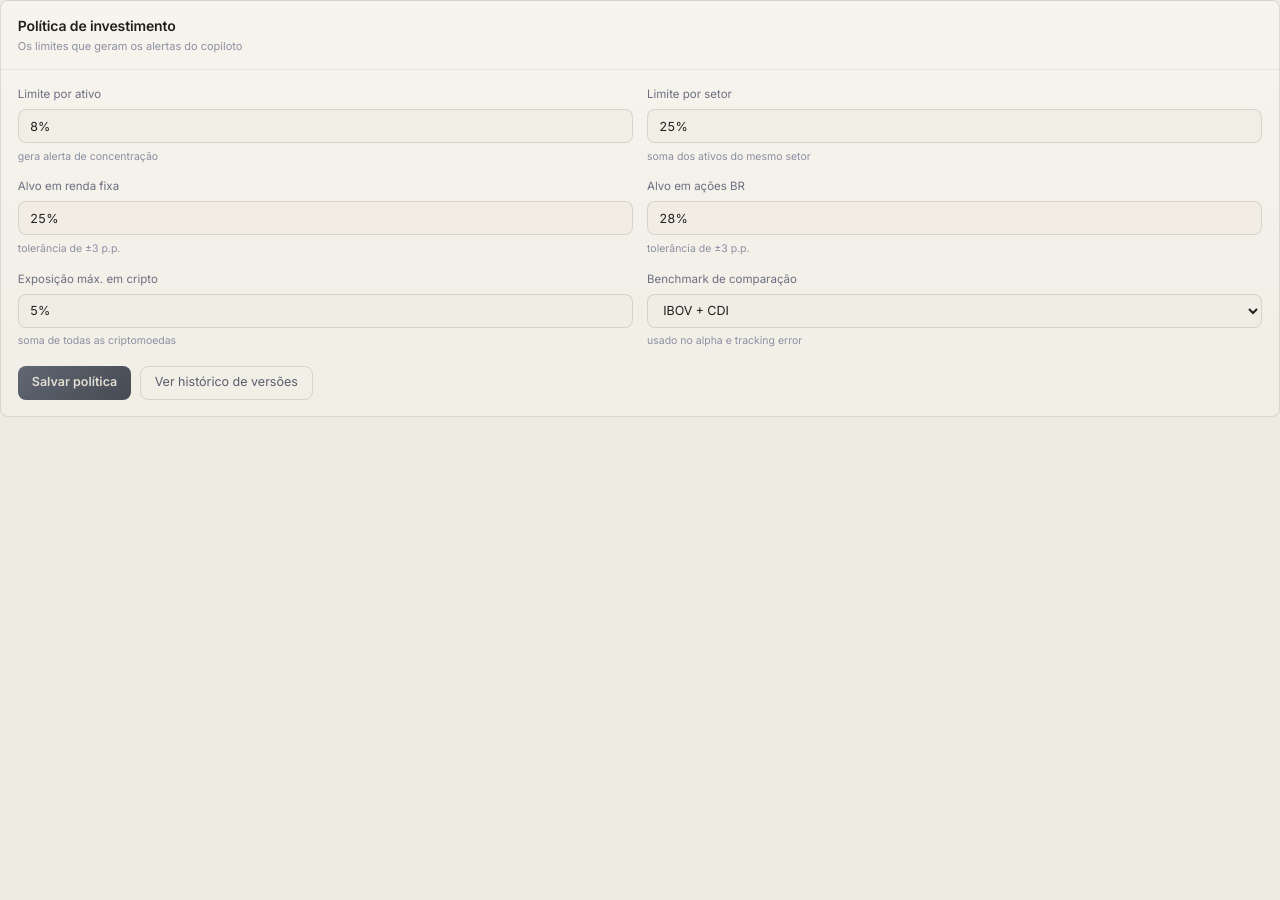
Test case: InvestmentPolicyCard › restores an older version into the form without saving
Click the button "Ver histórico de versões" at (226, 383), box top-left (140, 366), bottom-right (313, 400)
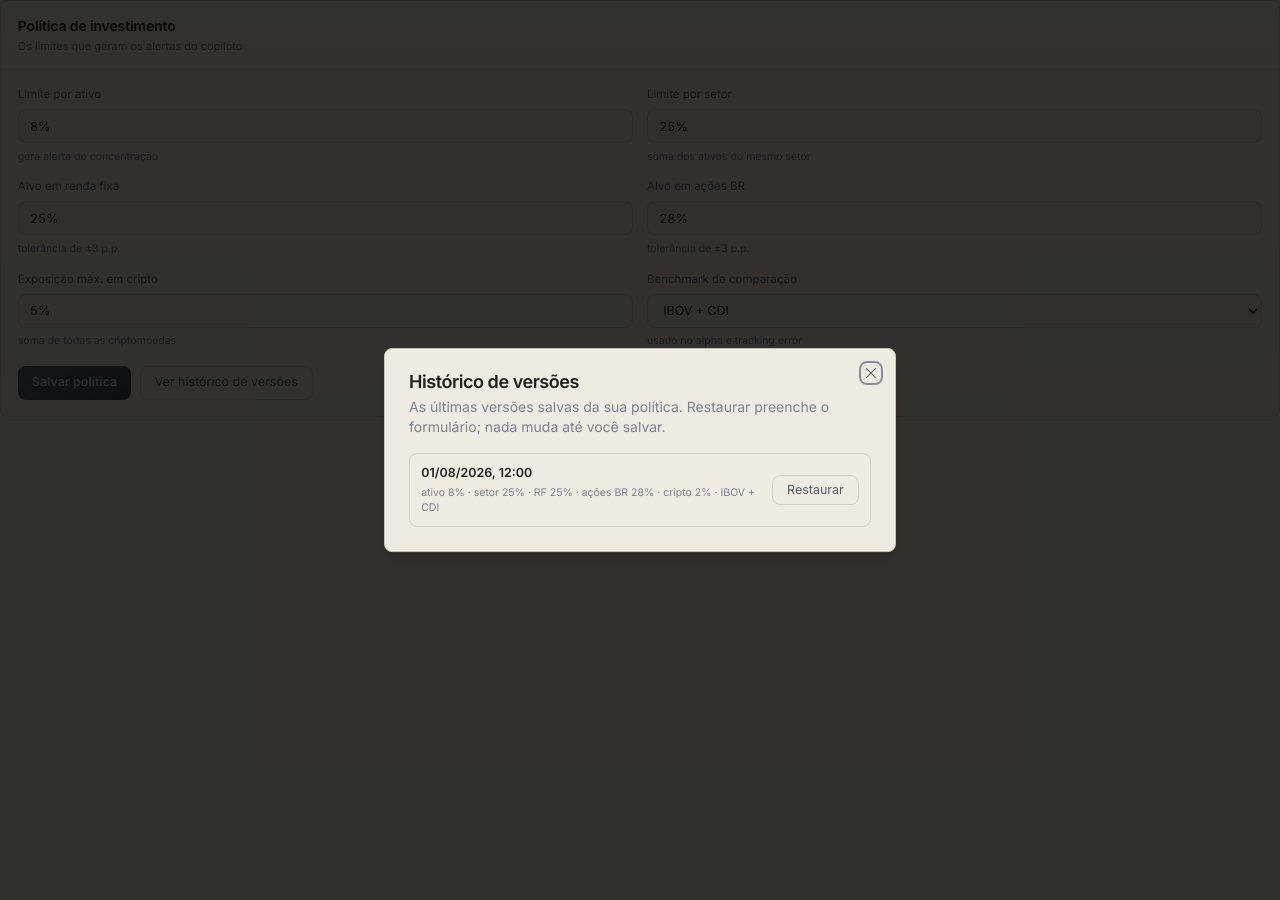
Click the button "Restaurar" at (816, 490), box top-left (772, 475), bottom-right (859, 505)
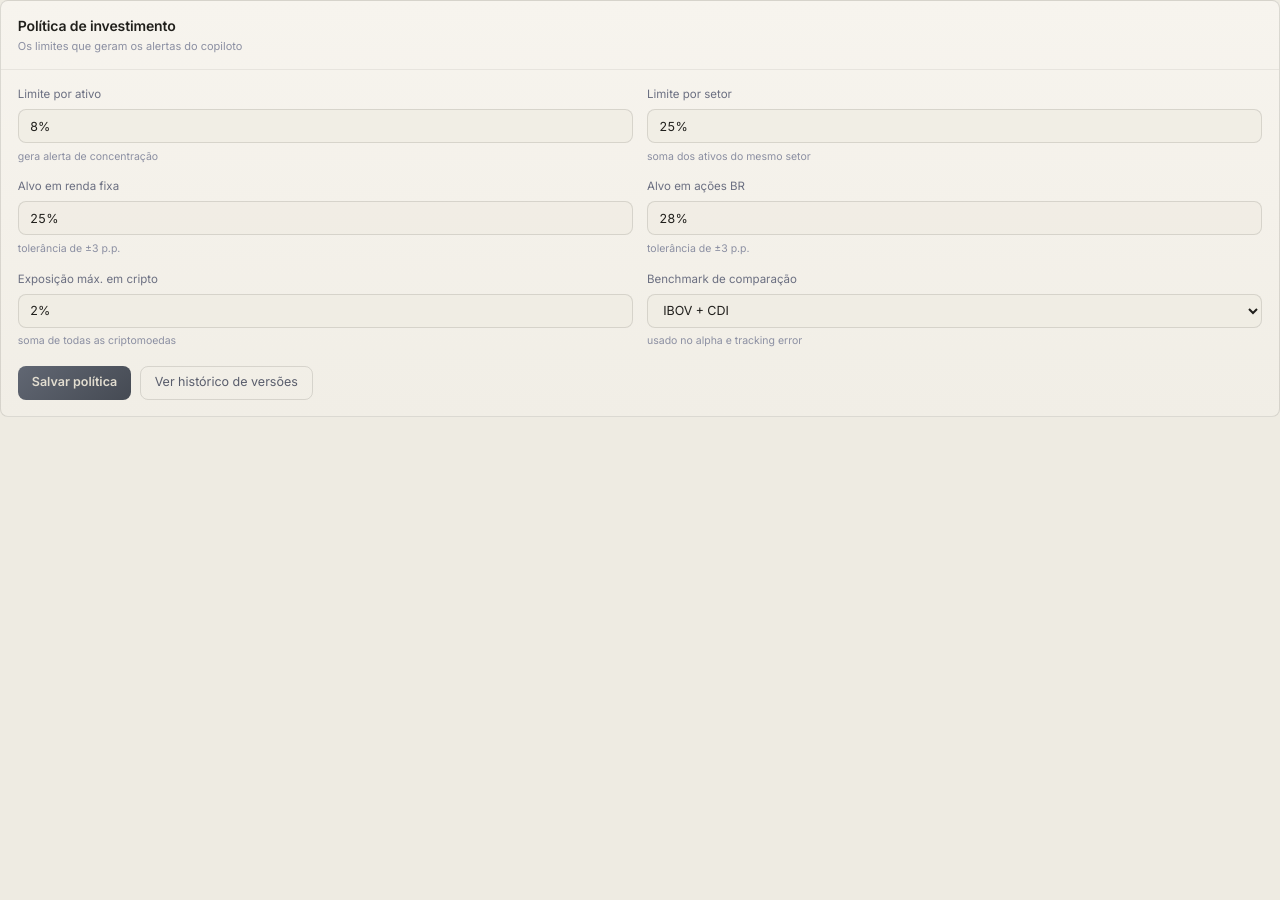
expect the field labelled "Exposição máx. em cripto" holds "2%": met, box top-left (18, 294), bottom-right (633, 328)
